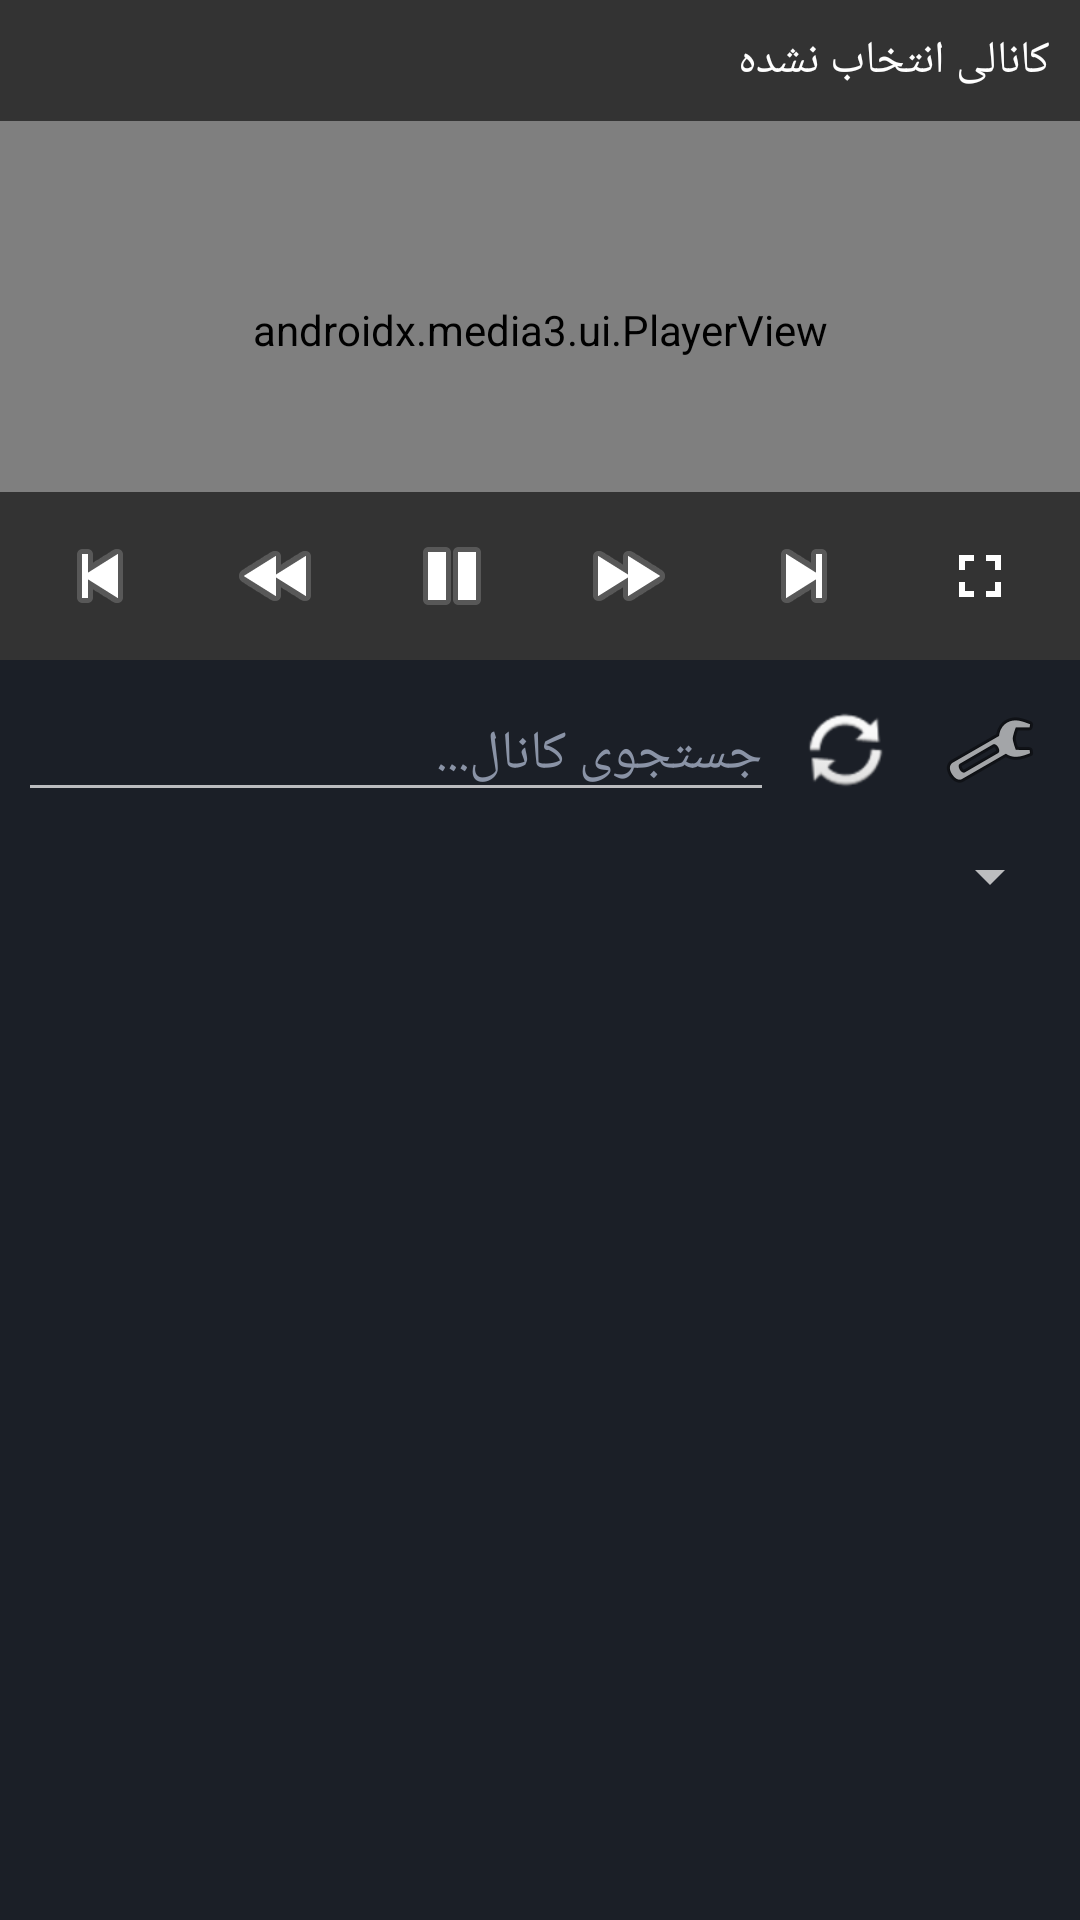

Icons on this 1080*1920 Android screen, each with its box as (x1, y1, x2, y2):
بروزرسانی: (809, 714, 882, 786)
بعدی: (781, 549, 827, 603)
تمام صفحه: (959, 555, 1001, 597)
تنظیمات: (950, 720, 1030, 780)
جلو: (593, 551, 665, 601)
عقب: (239, 551, 311, 601)
قبلی: (77, 549, 123, 603)
پخش / توقف: (423, 547, 481, 605)
